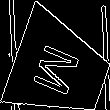M_E: (31, 39, 88, 100)
